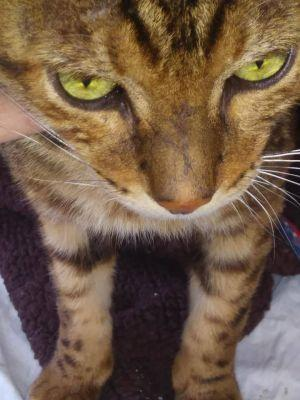bengal: (1, 1, 300, 231)
